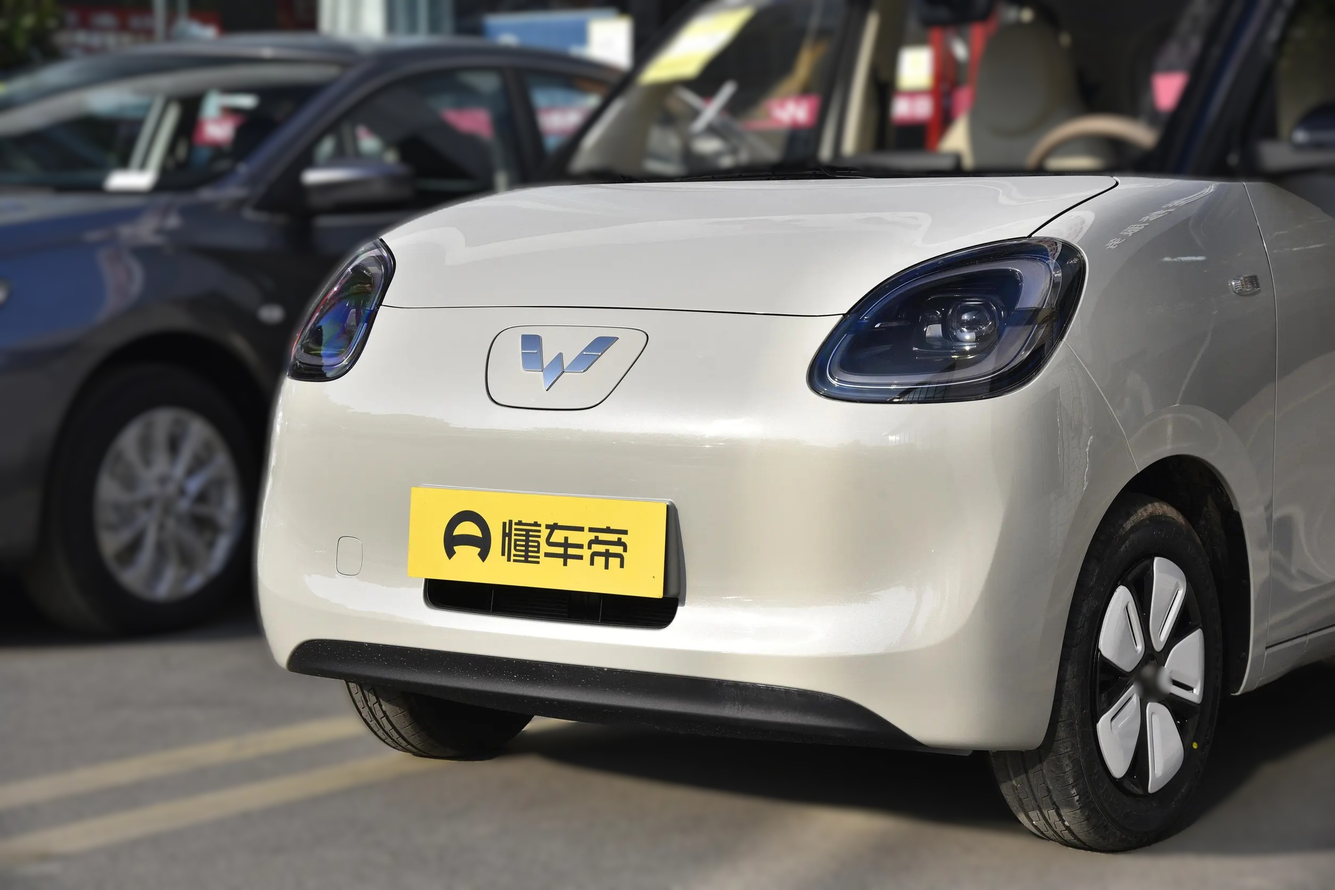SGMW: (521, 334, 619, 390)
